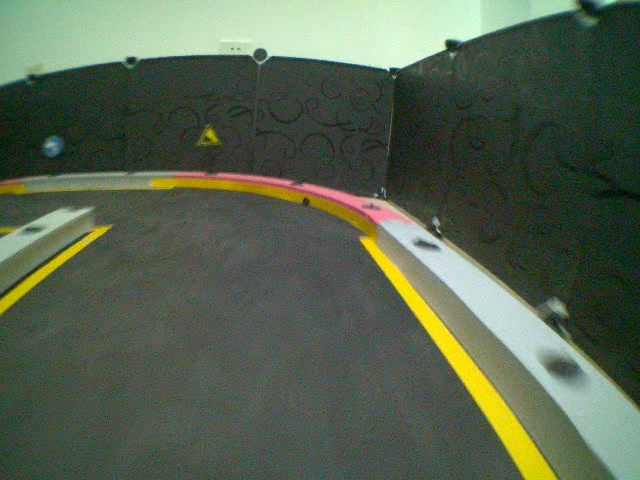fast: (195, 122, 223, 146)
turn: (42, 133, 61, 156)
